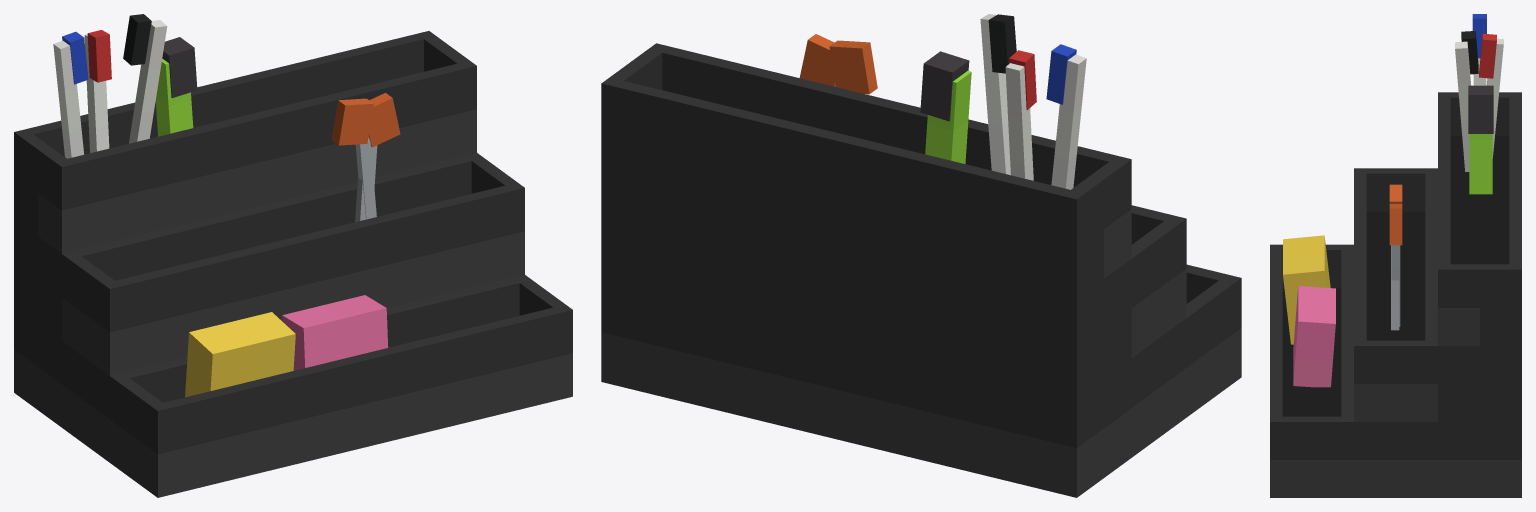
File: accessory.glb
3 renders of one model, left to right at view 1: azimuth 30°, elevation 25°; view 2: azimuth 150°, elevation 25°; view 3: azimuth 270°, elevation 25°, orthographic. The views are drawn at different scales.
Visible parts, largest first — view 1: cuboid, sticky_notes_yellow, sticky_notes_pink, pen_black, pen_blue, highlighter, scissors_handle_a, pen_red, highlighter_cap, scissors_handle_b, pen_black_cap, pen_red_cap (+2 smaller); view 2: cuboid, pen_blue, pen_black, highlighter, pen_red, highlighter_cap, scissors_handle_a, scissors_handle_b, pen_black_cap, pen_blue_cap, pen_red_cap; view 3: cuboid, sticky_notes_pink, sticky_notes_yellow, highlighter, pen_black, highlighter_cap, pen_red, pen_red_cap, scissors_handle_b, scissors_blade_b, pen_black_cap, scissors_blade_a (+1 smaller).
Part boxes in pixels (left/top/right/bottom): cuboid: left=14, top=31, right=572, bottom=497; sticky_notes_yellow: left=185, top=312, right=295, bottom=397; sticky_notes_pink: left=282, top=295, right=388, bottom=370; pen_black: left=129, top=20, right=167, bottom=143; pen_blue: left=53, top=40, right=84, bottom=158; highlighter: left=155, top=59, right=193, bottom=136; scissors_handle_a: left=331, top=98, right=373, bottom=145; pen_red: left=84, top=34, right=109, bottom=153; highlighter_cap: left=162, top=37, right=197, bottom=98; scissors_handle_b: left=366, top=93, right=400, bottom=147; pen_black_cap: left=123, top=14, right=151, bottom=65; pen_red_cap: left=87, top=30, right=111, bottom=82; cuboid: left=601, top=43, right=1241, bottom=497; pen_blue: left=1051, top=54, right=1086, bottom=189; pen_black: left=980, top=14, right=1010, bottom=175; highlighter: left=925, top=71, right=971, bottom=163; pen_red: left=1005, top=63, right=1033, bottom=180; highlighter_cap: left=920, top=51, right=969, bottom=121; scissors_handle_a: left=829, top=40, right=877, bottom=94; scissors_handle_b: left=799, top=34, right=840, bottom=86; pen_black_cap: left=988, top=14, right=1016, bottom=73; pen_blue_cap: left=1046, top=44, right=1076, bottom=104; pen_red_cap: left=1009, top=50, right=1036, bottom=109; cuboid: left=1270, top=92, right=1521, bottom=497; sticky_notes_pink: left=1293, top=286, right=1335, bottom=387; sticky_notes_yellow: left=1283, top=235, right=1330, bottom=344; highlighter: left=1469, top=134, right=1492, bottom=194; pen_black: left=1455, top=41, right=1471, bottom=171; highlighter_cap: left=1468, top=85, right=1493, bottom=133; pen_red: left=1486, top=38, right=1503, bottom=158; pen_red_cap: left=1479, top=33, right=1496, bottom=78; scissors_handle_b: left=1389, top=204, right=1402, bottom=245; scissors_blade_b: left=1391, top=245, right=1399, bottom=330; pen_black_cap: left=1461, top=31, right=1478, bottom=74; scissors_blade_a: left=1391, top=245, right=1400, bottom=326.
Bounding box in the file's own units: 0.625 × 0.5389 × 0.375.
Materials: 2 (2 with a texture image).
